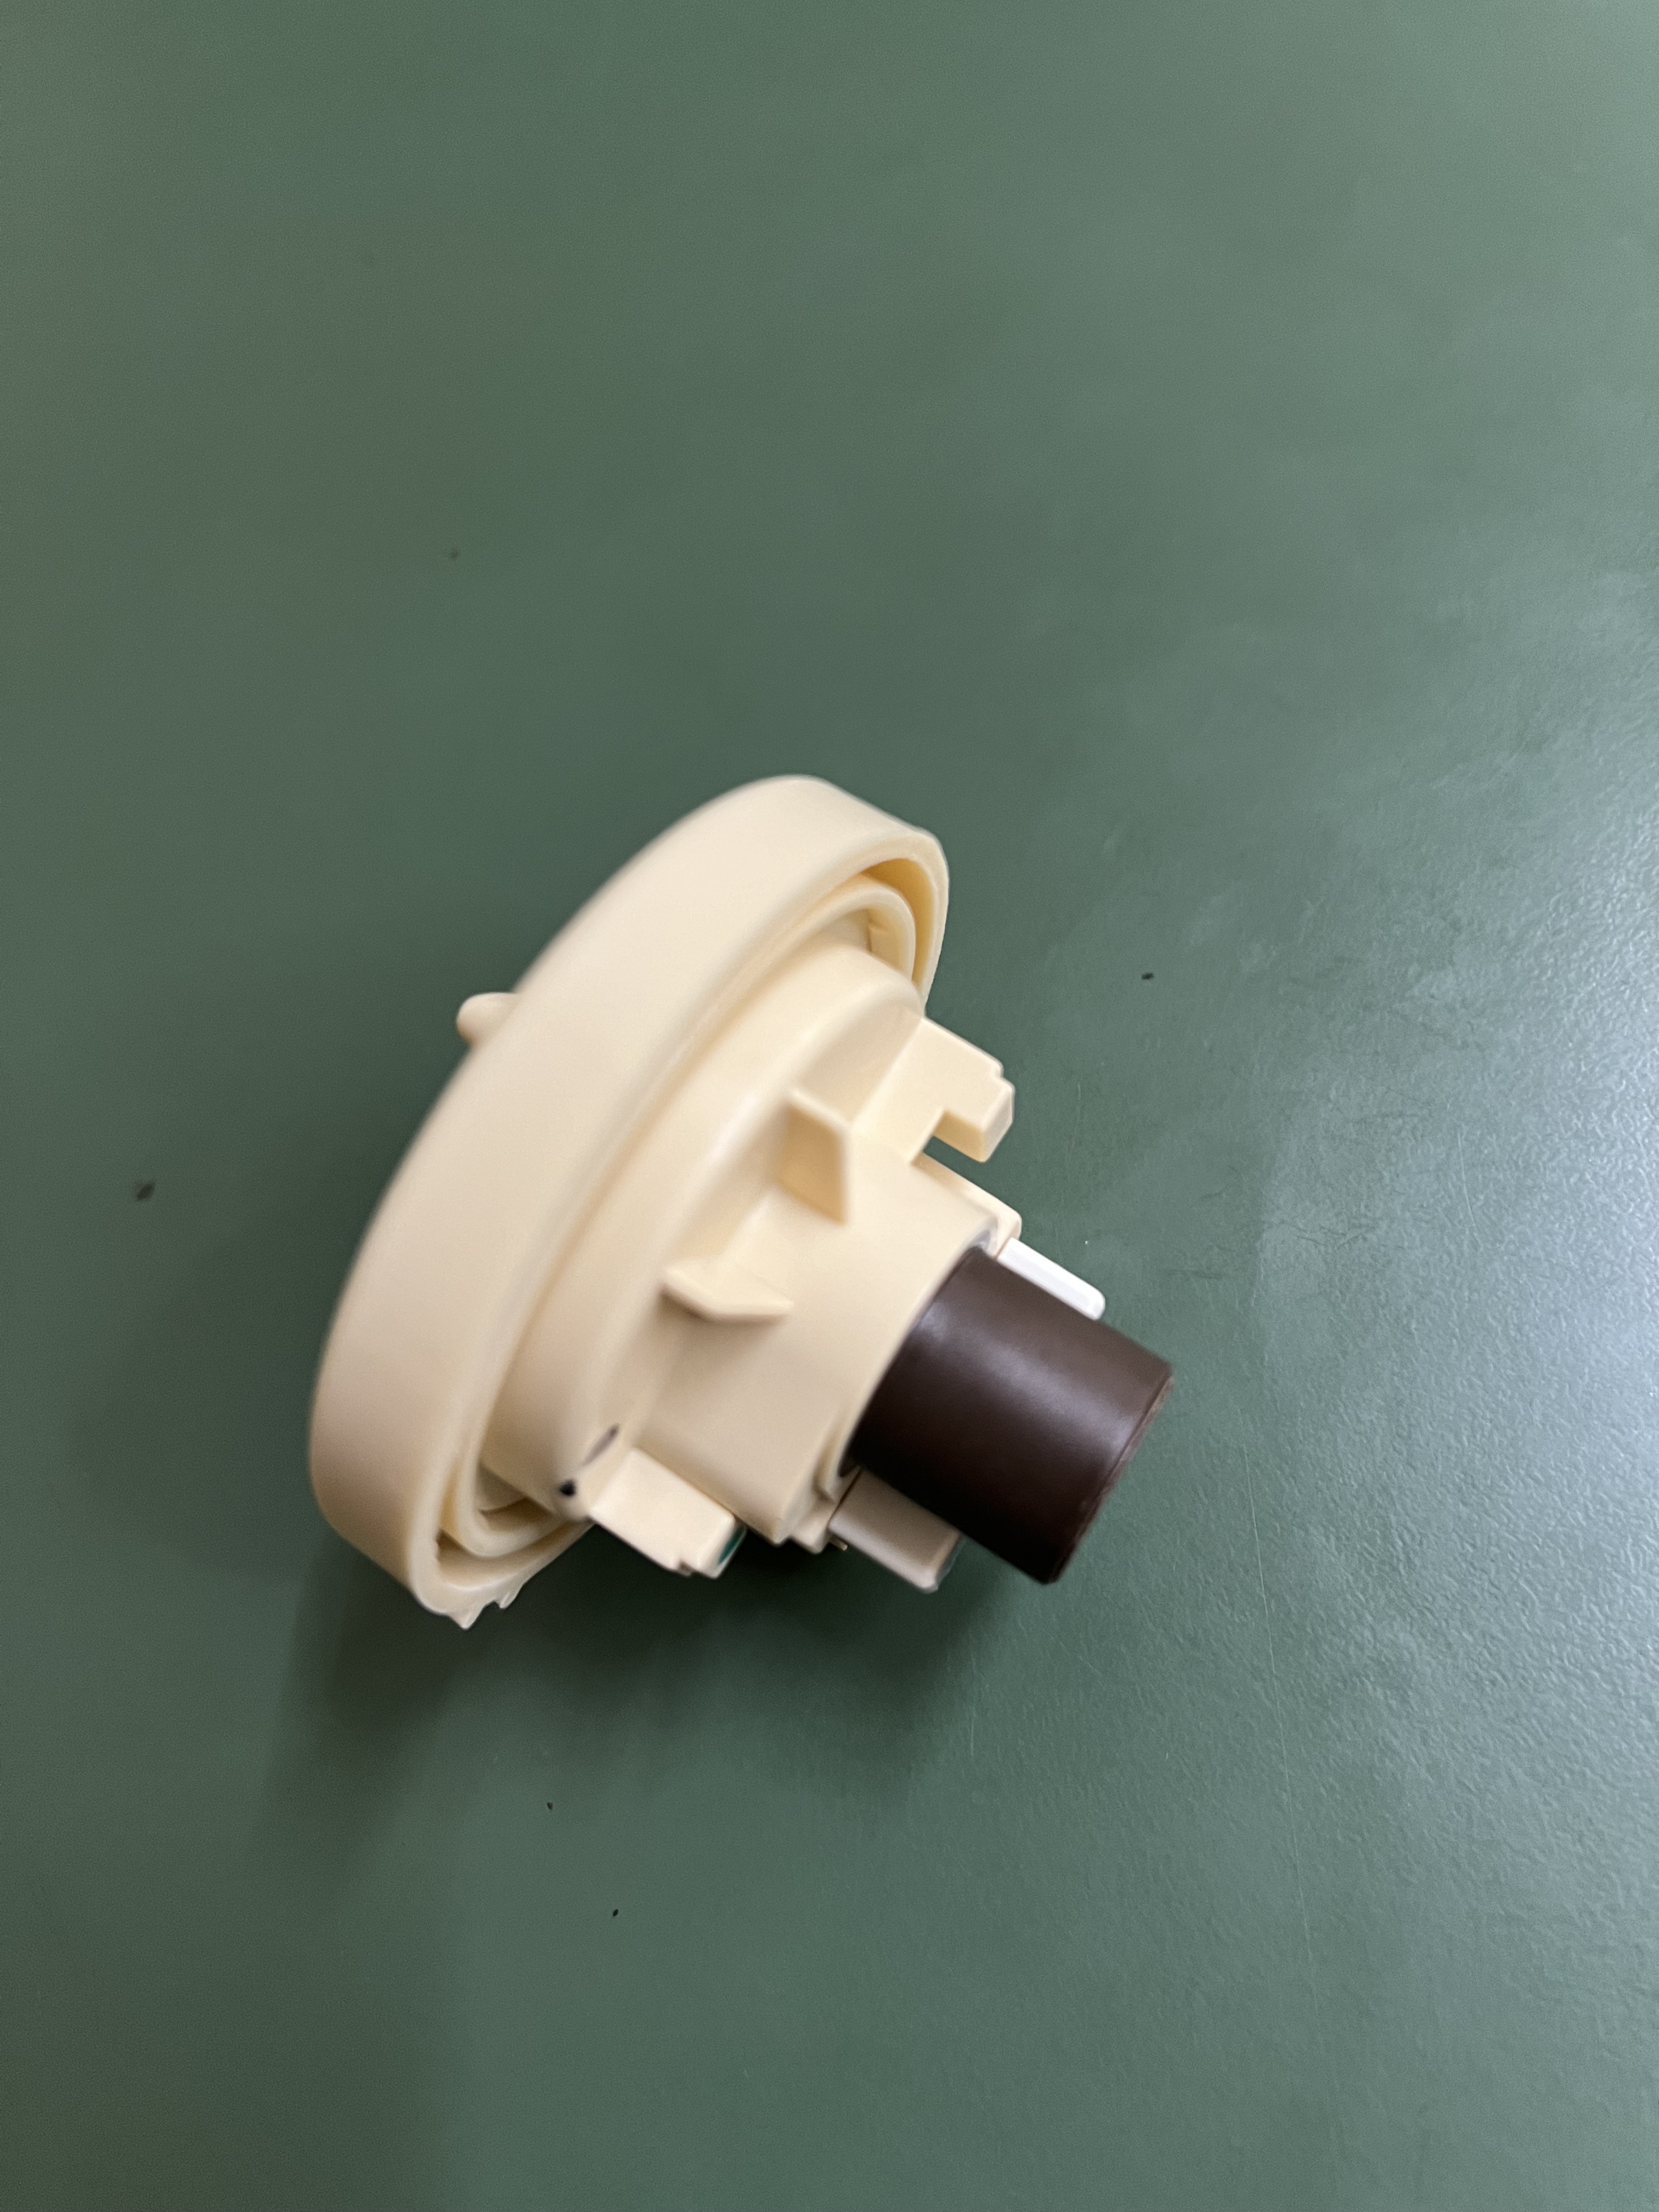pressure_sensor: (321, 775, 1154, 1741)
